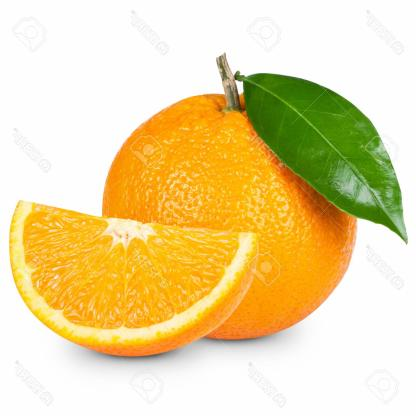orange: (96, 94, 364, 361)
